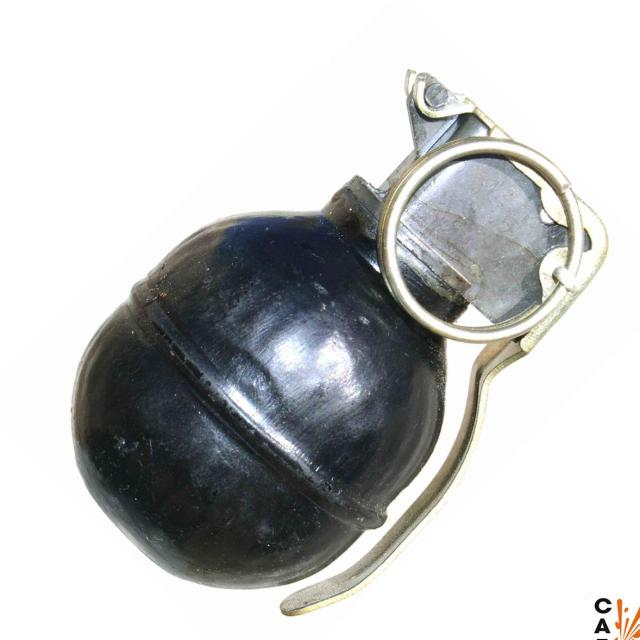grenade: (68, 65, 611, 618)
